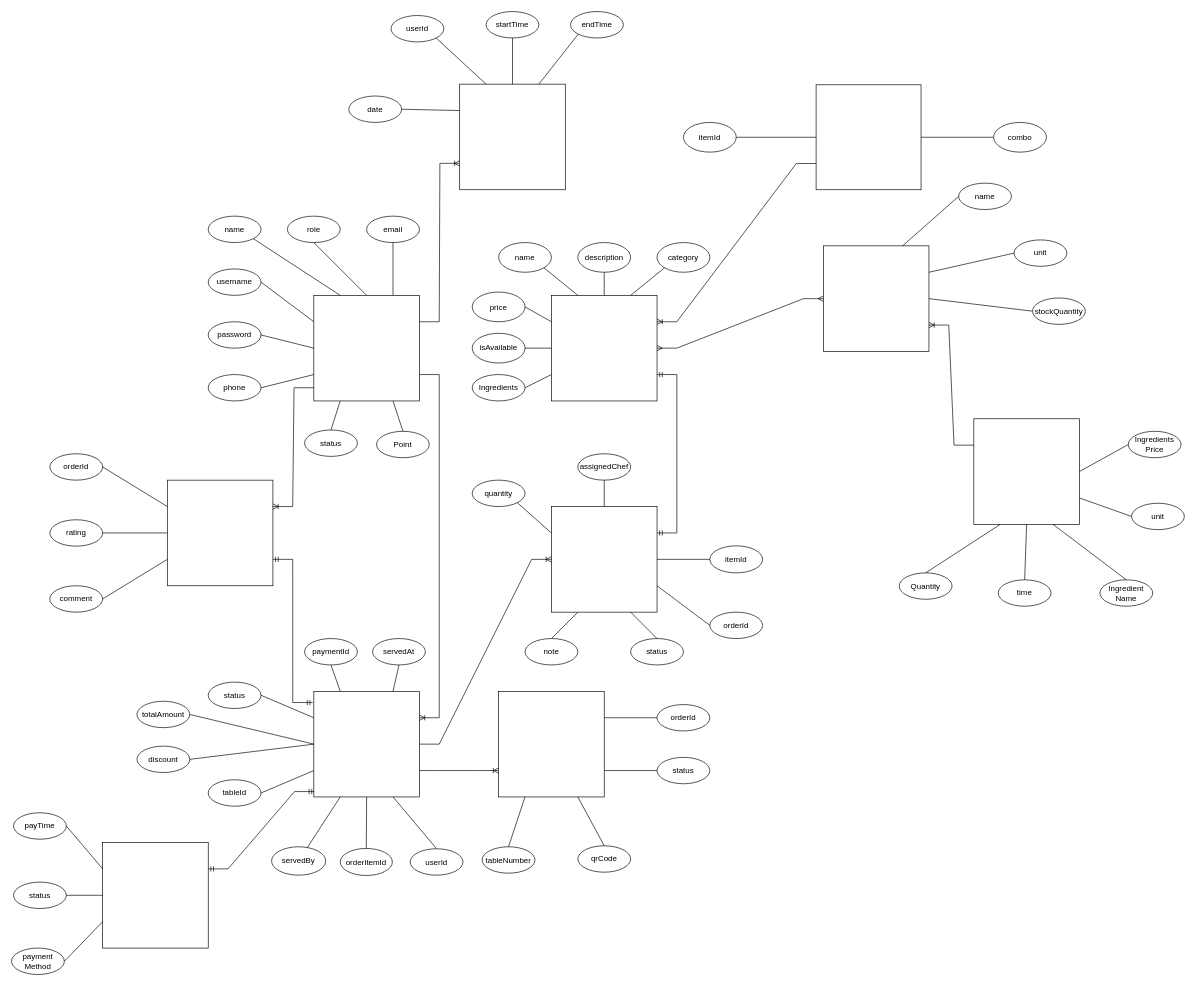
Some shapes in this 1196 by 986 pixel diagram are drawn without their labels. Each missing label, with the box of its shape:
Feedback: (167, 479, 273, 586)
Ingredient: (823, 245, 929, 351)
Item: (551, 295, 657, 401)
Menu: (815, 84, 921, 190)
Order: (313, 691, 419, 797)
OrderItem: (551, 506, 657, 612)
Payment: (102, 842, 208, 948)
PurchaseOrder: (973, 418, 1079, 524)
Shift: (459, 83, 565, 190)
Table: (498, 691, 604, 797)
User: (313, 295, 419, 401)
